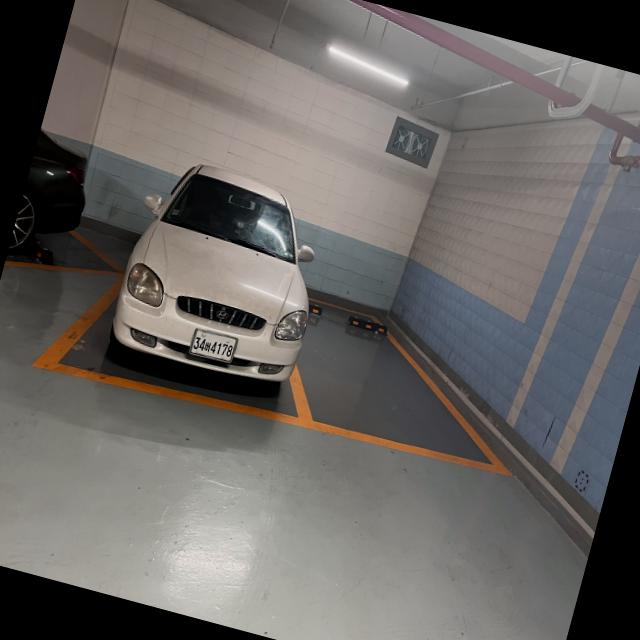car: (98, 137, 355, 430)
free: (274, 302, 555, 490)
